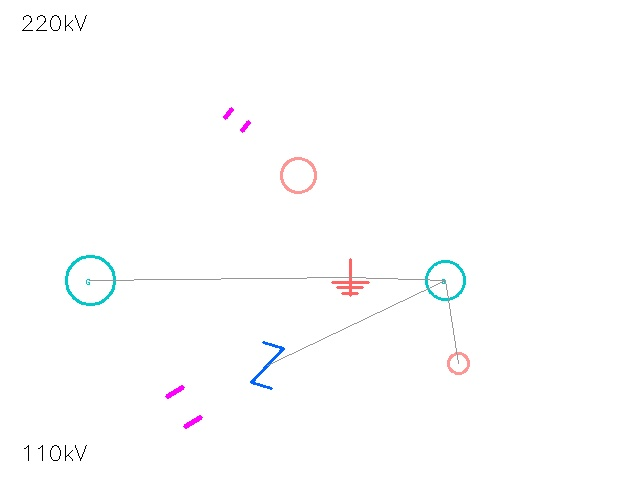capacitor: (155, 378, 213, 436), (219, 102, 255, 138)
circuit_breaker: (244, 342, 290, 388)
generator: (66, 256, 114, 304), (426, 261, 464, 299)
ground: (332, 259, 368, 295)
reactor: (264, 141, 332, 209)
voltage_transformer: (437, 342, 479, 384)
